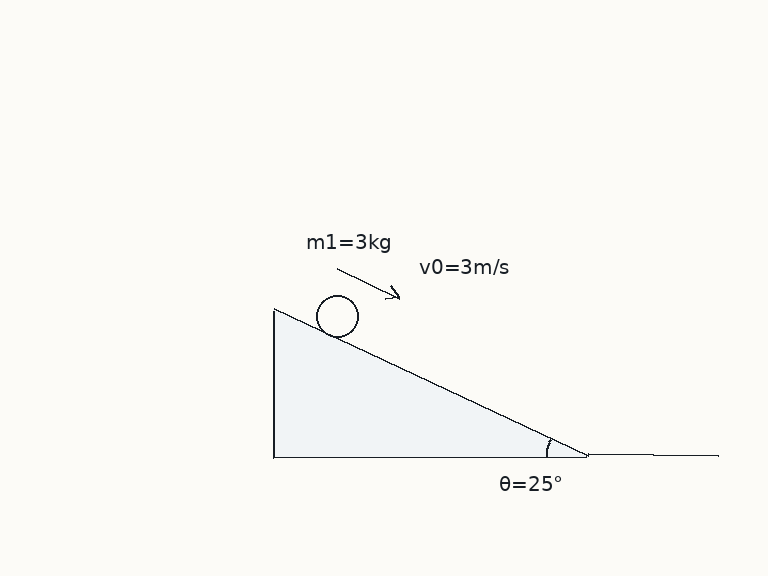ball: (314, 293, 360, 339)
ramp: (271, 308, 589, 458)
